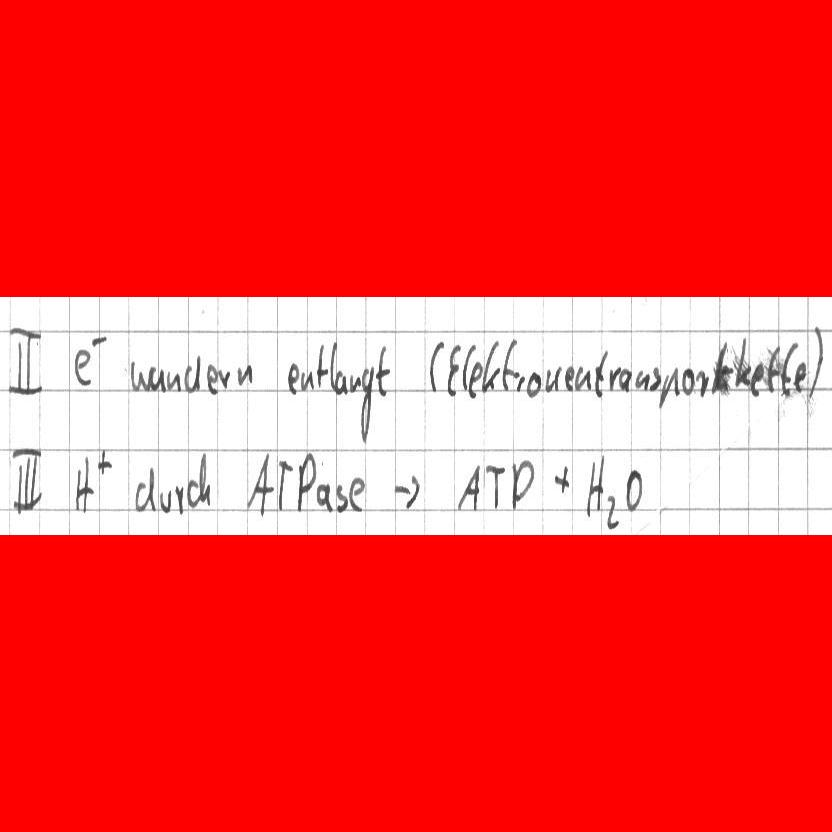Char: (7, 325, 42, 395), (10, 445, 46, 513), (245, 453, 273, 516), (711, 337, 734, 395), (510, 458, 534, 512), (584, 454, 603, 520), (294, 452, 315, 511), (455, 463, 480, 512), (359, 365, 374, 444), (73, 457, 93, 516), (484, 460, 507, 511), (658, 364, 680, 413), (392, 471, 420, 509), (134, 465, 156, 513), (483, 337, 501, 395), (446, 342, 463, 397), (427, 340, 444, 394), (503, 337, 520, 390), (72, 345, 93, 386), (198, 454, 213, 510), (464, 346, 480, 398), (278, 455, 292, 513), (625, 467, 643, 512), (183, 353, 202, 395), (811, 325, 823, 391), (766, 345, 782, 393), (735, 337, 749, 390), (780, 347, 795, 395), (376, 347, 389, 399), (594, 350, 608, 398), (317, 341, 331, 388), (347, 475, 365, 511), (604, 492, 620, 532), (551, 464, 570, 497), (751, 362, 767, 398), (611, 366, 631, 393), (130, 359, 146, 392), (95, 448, 114, 475), (544, 366, 562, 394), (694, 365, 710, 396), (576, 364, 592, 394), (85, 331, 110, 350), (287, 360, 300, 396), (793, 360, 807, 393), (236, 361, 253, 388), (680, 366, 694, 398), (147, 365, 164, 391), (158, 484, 172, 514), (332, 365, 346, 395), (185, 478, 199, 508), (206, 364, 219, 395), (526, 372, 542, 397), (173, 483, 184, 517), (166, 368, 180, 394), (636, 367, 650, 393), (317, 484, 331, 510), (333, 484, 346, 511), (563, 364, 575, 393), (300, 368, 313, 394), (649, 365, 661, 392), (216, 368, 229, 391), (348, 373, 361, 394), (514, 373, 525, 392)
